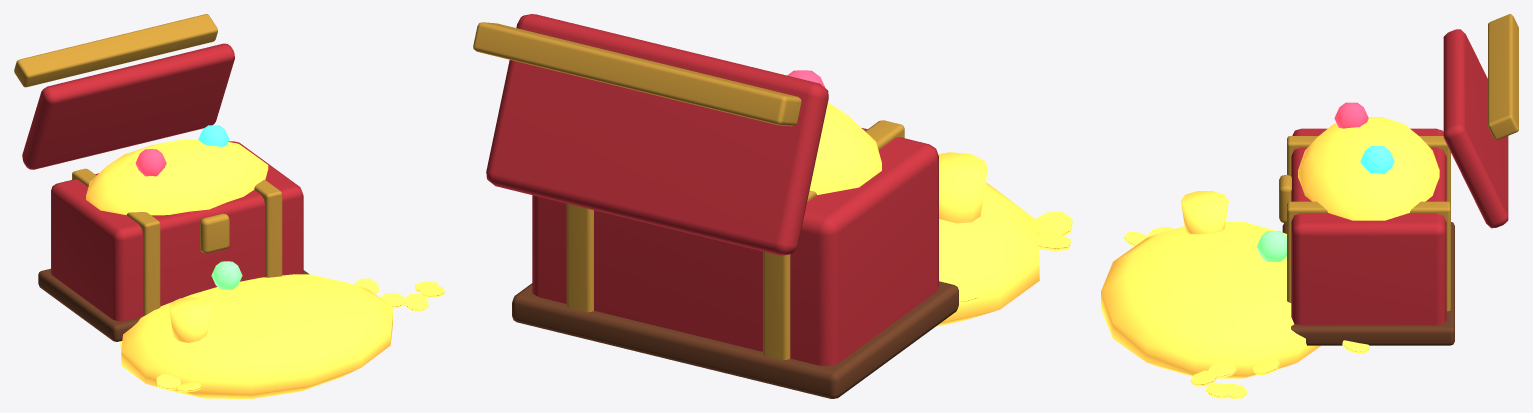
The model's file is cove_treasure.glb.
The picture shows the model from 3 angles, left to right: view 1: azimuth 30°, elevation 25°; view 2: azimuth 150°, elevation 25°; view 3: azimuth 270°, elevation 25°; orthographic projection. The views are drawn at different scales.
Parts seen in each view (by area): view 1: Treasure; view 2: Treasure; view 3: Treasure.
Boxes of the visible parts, box(x1,y1,x2,y2) form: Treasure: box(14, 14, 444, 398); Treasure: box(473, 14, 1072, 398); Treasure: box(1101, 14, 1518, 398).
Size of the model in its own units: 2.3 by 1.72 by 2.42.
